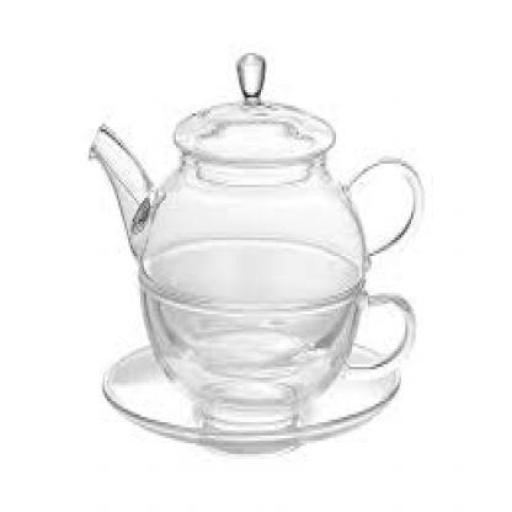glass: (93, 48, 423, 368), (142, 230, 418, 425), (107, 333, 403, 449)
